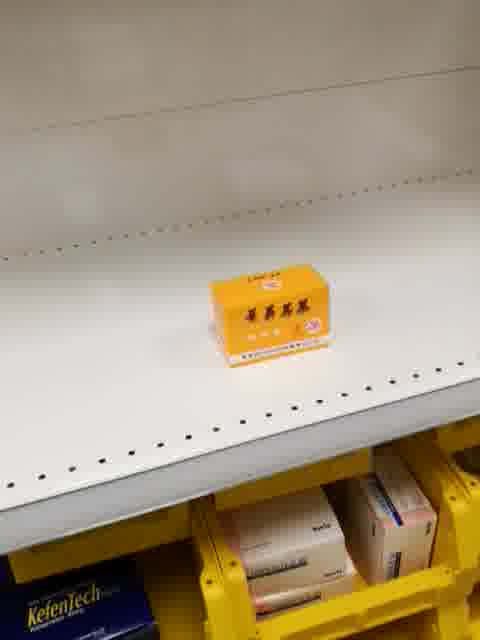jasminetea: (209, 259, 333, 369)
